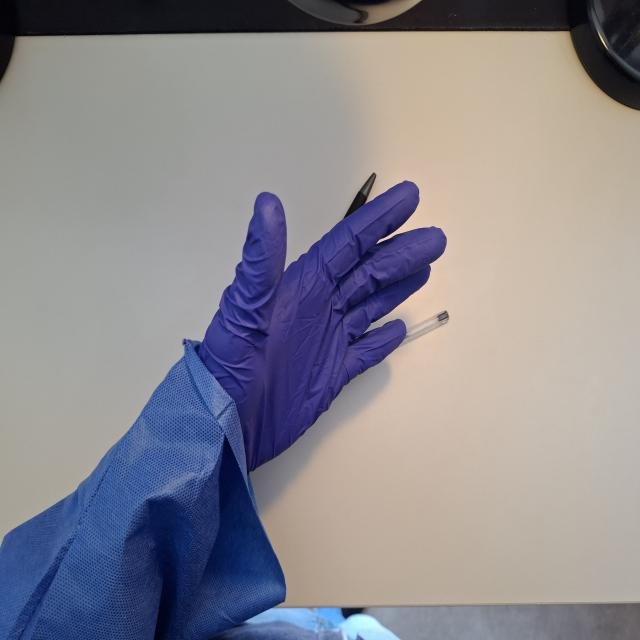glove_on: (192, 178, 448, 480)
